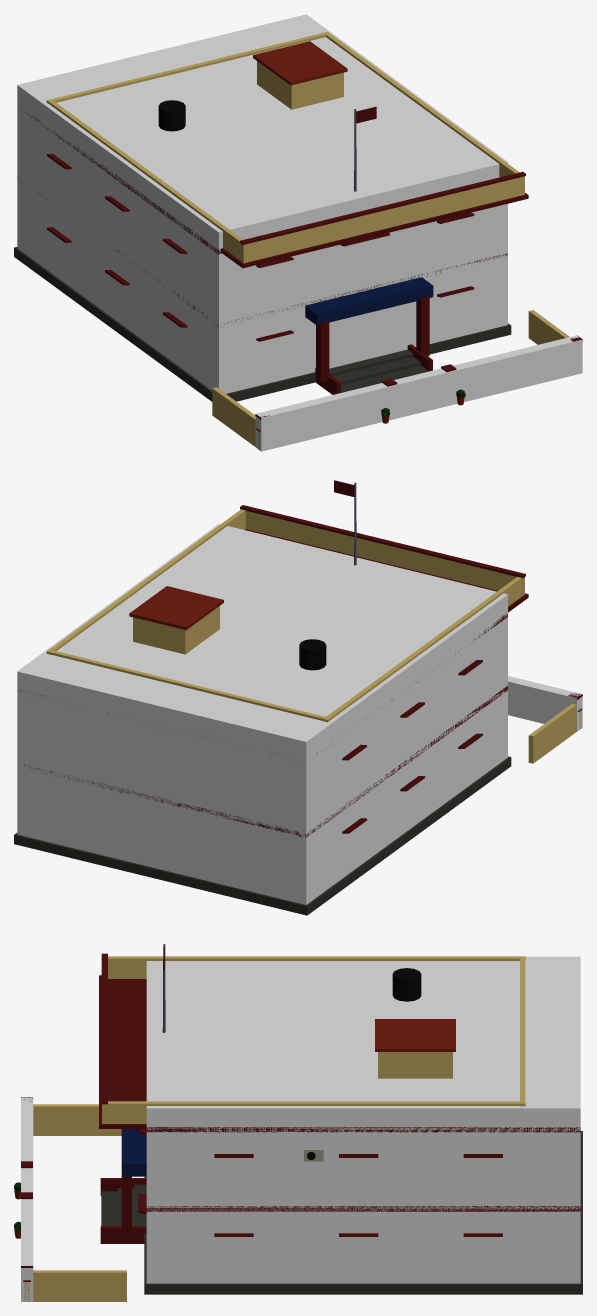
The model's file is C02_beach_police.glb.
3 renders of one model, top to bottom at view 1: azimuth 30°, elevation 25°; view 2: azimuth 150°, elevation 25°; view 3: azimuth 270°, elevation 25°, orthographic. The views are drawn at different scales.
Parts seen in each view (by area): view 1: COL_Main, LOD0, COL_Compound; view 2: COL_Main, LOD0, COL_Compound; view 3: COL_Main, LOD0, COL_Compound.
Part boxes in pixels (bbox=[...]): COL_Main: bbox=[17, 14, 507, 393]; LOD0: bbox=[14, 31, 582, 450]; COL_Compound: bbox=[255, 335, 582, 451]; COL_Main: bbox=[17, 524, 507, 904]; LOD0: bbox=[14, 480, 582, 915]; COL_Compound: bbox=[508, 676, 582, 731]; COL_Main: bbox=[146, 956, 580, 1283]; LOD0: bbox=[14, 944, 582, 1301]; COL_Compound: bbox=[21, 1097, 33, 1301].
Size of what is drawn, in the model's own units: 16.04 by 12.15 by 22.83.
